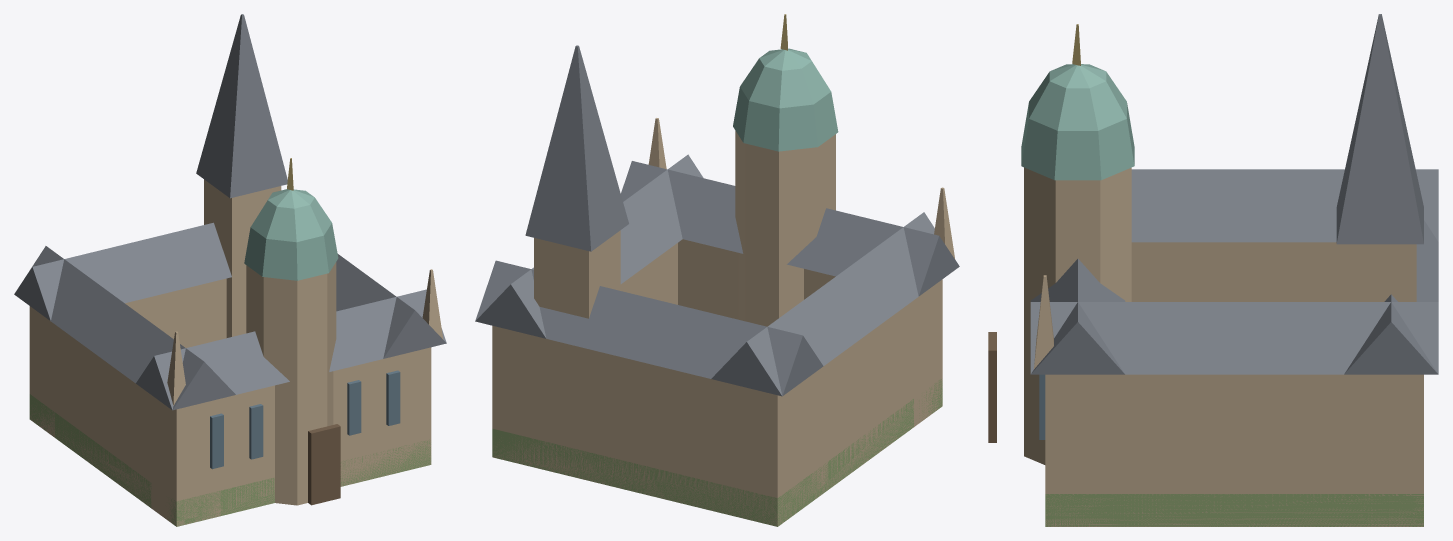
The model's file is national-oxford-university.glb.
The picture shows the model from 3 angles, left to right: view 1: azimuth 30°, elevation 25°; view 2: azimuth 150°, elevation 25°; view 3: azimuth 270°, elevation 25°; orthographic projection. The views are drawn at different scales.
Visible parts, largest first — view 1: LOD0; view 2: LOD0; view 3: LOD0.
Part boxes in pixels (x1=…): LOD0: x1=14, y1=14, x2=446, y2=526; LOD0: x1=475, y1=14, x2=959, y2=526; LOD0: x1=988, y1=14, x2=1438, y2=526.
Size of what is drawn, in the model's own units: 0.28 by 0.36 by 0.309.
